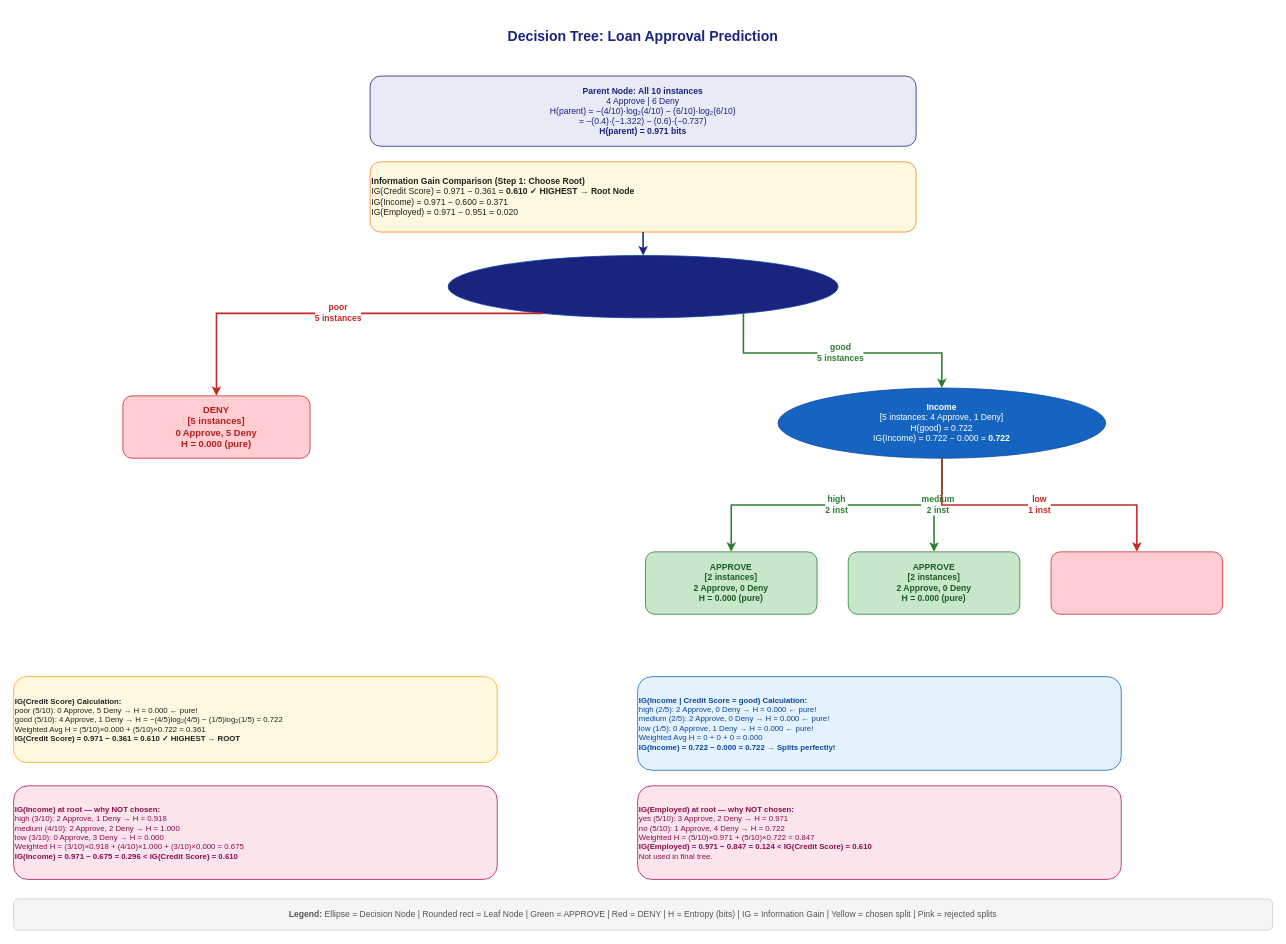
Some shapes in this 1286 by 944 pixel diagram are drawn without their labels. The box of each missing label's shape, as (x1, y1, x2, y2) in pixels:
Credit Score [10 instances: 4 Approve, 6 Deny] H = 0.971 | IG = 0.610: (447, 255, 838, 318)
DENY [1 instance] 0 Approve, 1 Deny H = 0.000 (pure): (1050, 551, 1223, 614)
